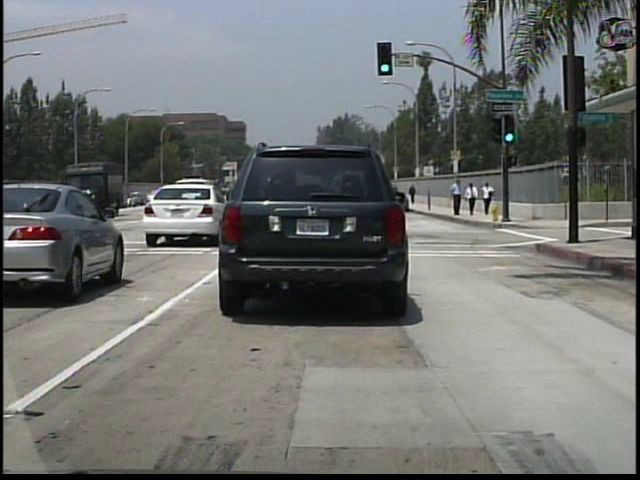person: (449, 178, 464, 218), (464, 179, 478, 215), (480, 179, 493, 214), (407, 183, 417, 206)
